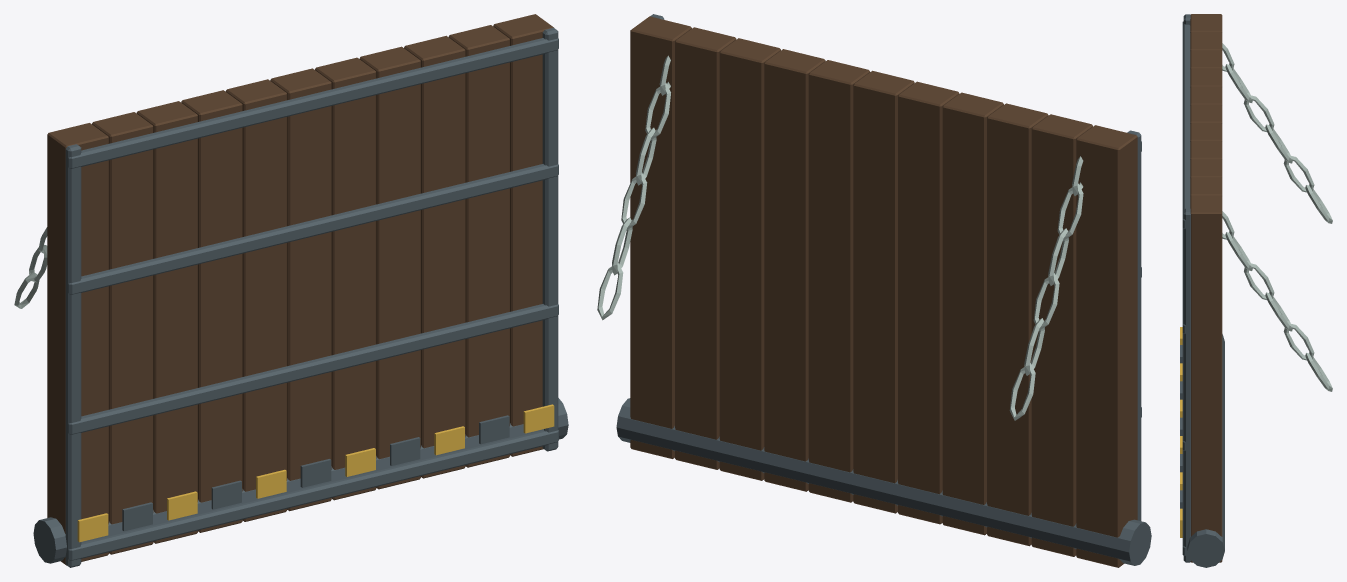
File: bridge_leaf.glb
3 renders of one model, left to right at view 1: azimuth 30°, elevation 25°; view 2: azimuth 150°, elevation 25°; view 3: azimuth 270°, elevation 25°, orthographic. The views are drawn at different scales.
Visible parts, largest first — view 1: Occlude_Leaf_Mesh; view 2: Occlude_Leaf_Mesh; view 3: Occlude_Leaf_Mesh.
Boxes of the visible parts, x1=… form: Occlude_Leaf_Mesh: x1=14, y1=14, x2=568, y2=567; Occlude_Leaf_Mesh: x1=597, y1=14, x2=1151, y2=567; Occlude_Leaf_Mesh: x1=1180, y1=14, x2=1332, y2=567.
Size of the model in its own units: 4.6 by 3.6 by 1.42.
